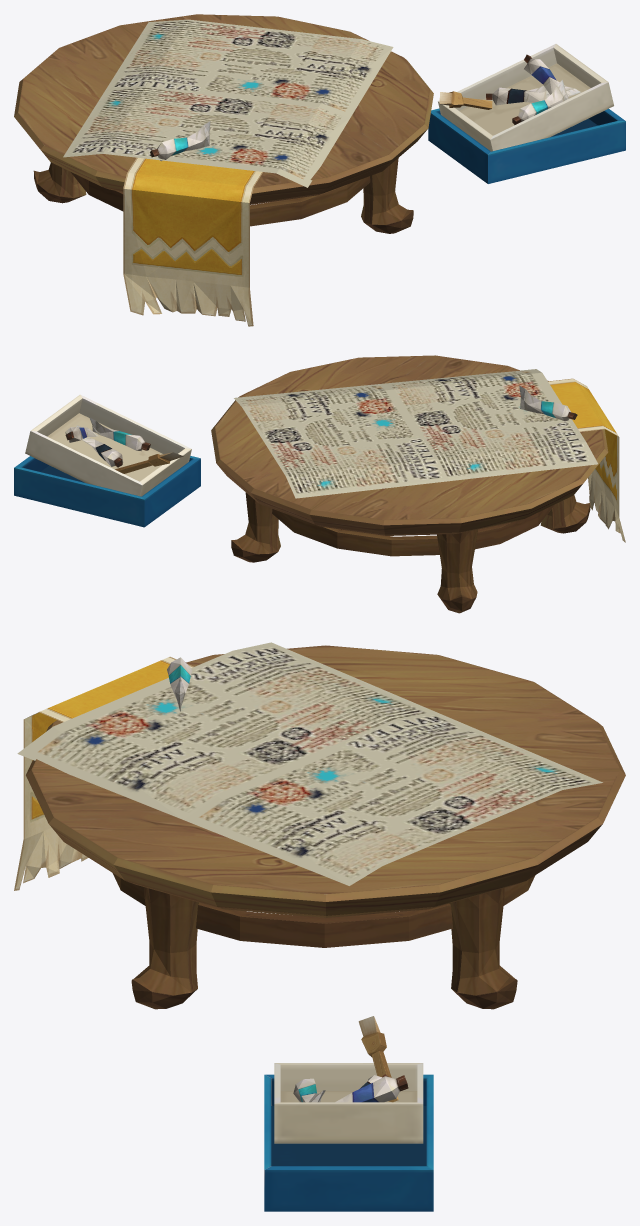
The model's file is wz_tongtiantazhuozi.FBX.
The picture shows the model from 3 angles, top to bottom: view 1: azimuth 30°, elevation 25°; view 2: azimuth 150°, elevation 25°; view 3: azimuth 270°, elevation 25°; orthographic projection. The views are drawn at different scales.
Parts seen in each view (by area): view 1: wz_tongtiantazhuozi; view 2: wz_tongtiantazhuozi; view 3: wz_tongtiantazhuozi.
Boxes of the visible parts, left/top/right/bottom form: wz_tongtiantazhuozi: left=14, top=14, right=625, bottom=326; wz_tongtiantazhuozi: left=14, top=355, right=625, bottom=613; wz_tongtiantazhuozi: left=14, top=642, right=625, bottom=1211.
Size of the model in its own units: 1191 by 323 by 790.
